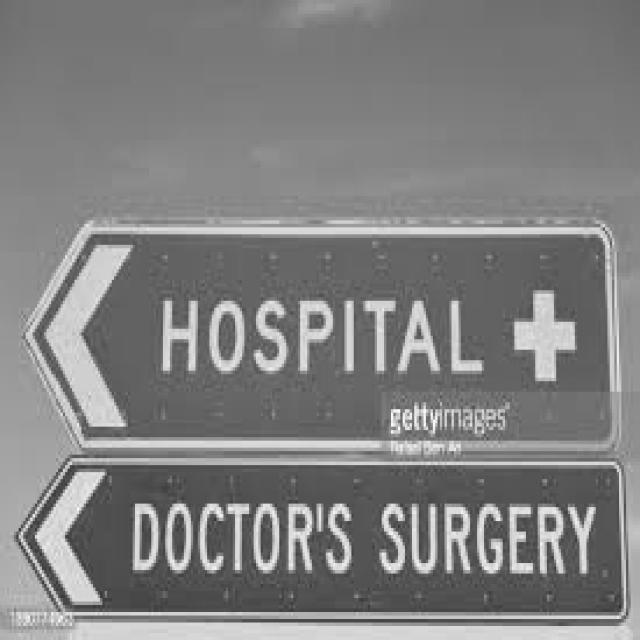hospital ahead: (134, 257, 597, 395)
